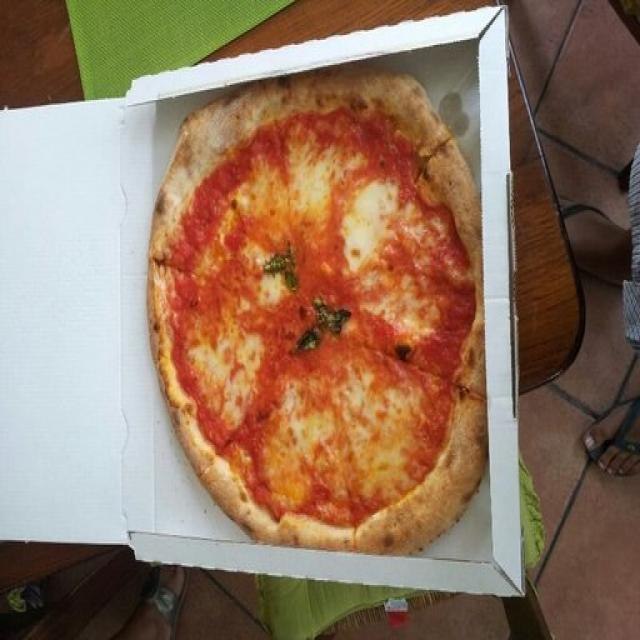Basil: (290, 303, 349, 352), (266, 246, 298, 290)
Pizza: (149, 73, 489, 557)
